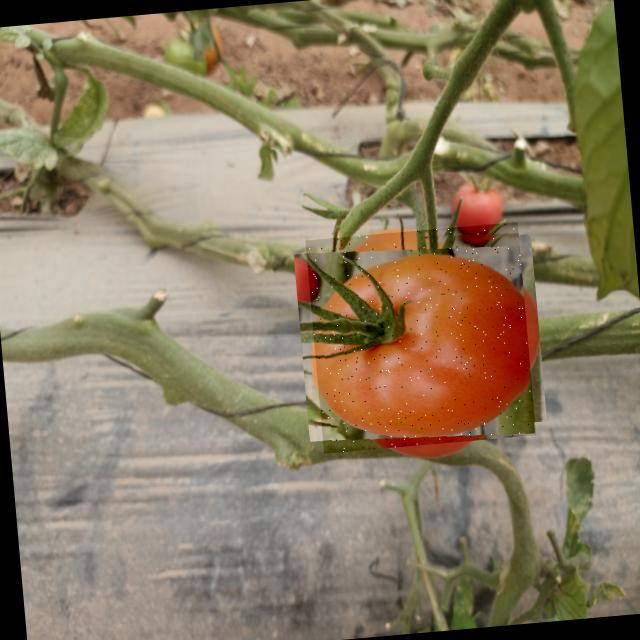Ripe Tomato: (305, 222, 536, 454)
